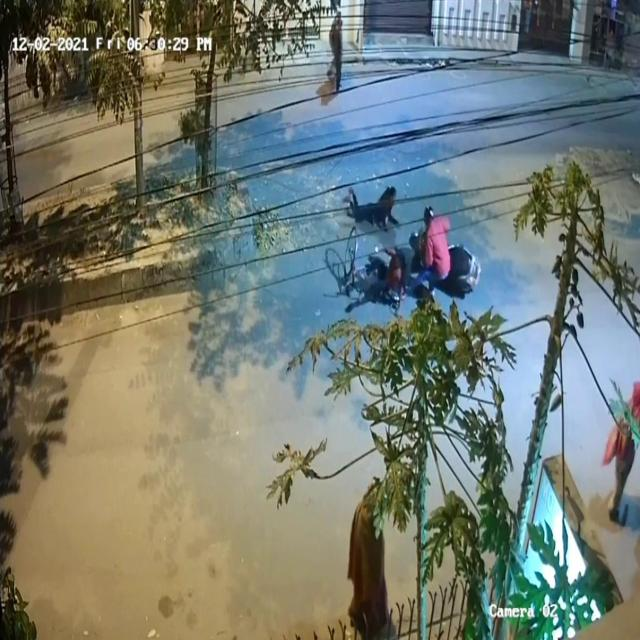accident: (323, 177, 485, 311)
